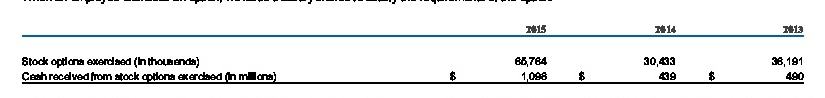table: (0, 0, 825, 98)
